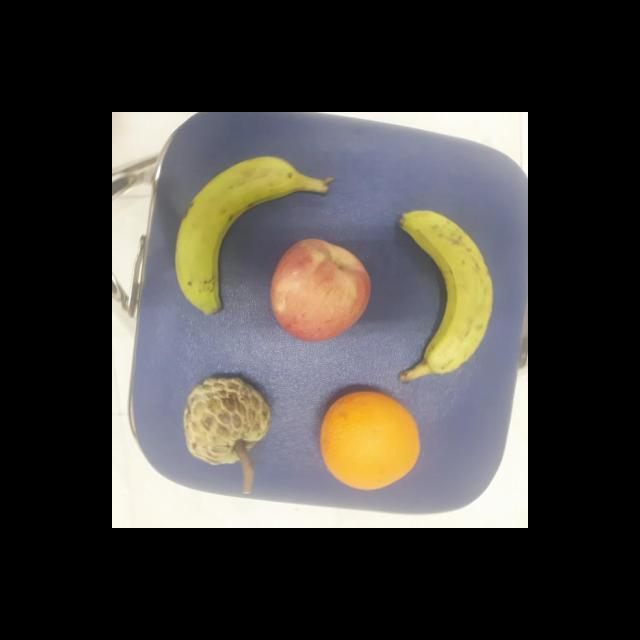Sakya fruit: (180, 375, 274, 468)
apple: (270, 236, 374, 346)
banana: (172, 154, 336, 318), (399, 212, 495, 386)
orange: (319, 390, 424, 491)
